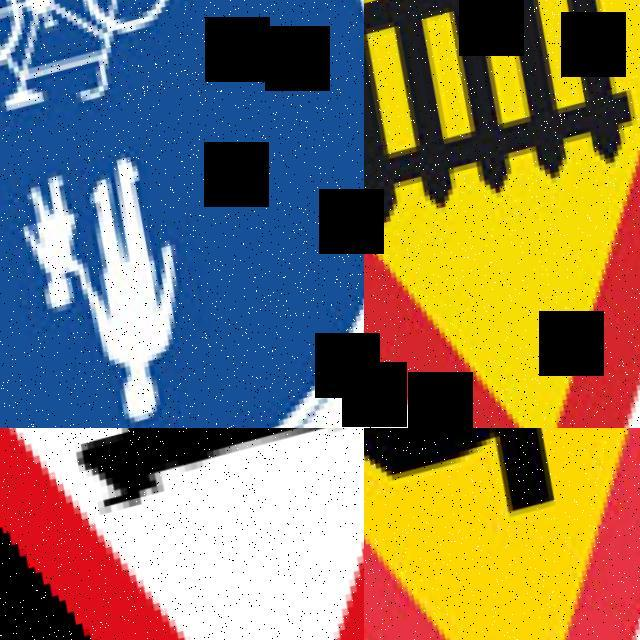143: (364, 0, 640, 428)
166: (364, 428, 640, 640)
91: (0, 0, 364, 428)
Cattle: (0, 428, 364, 640)
